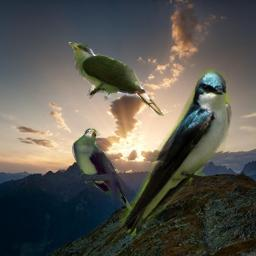Cuckoo: (72, 128, 151, 230), (67, 42, 164, 116)
Swallow: (119, 69, 233, 242)
